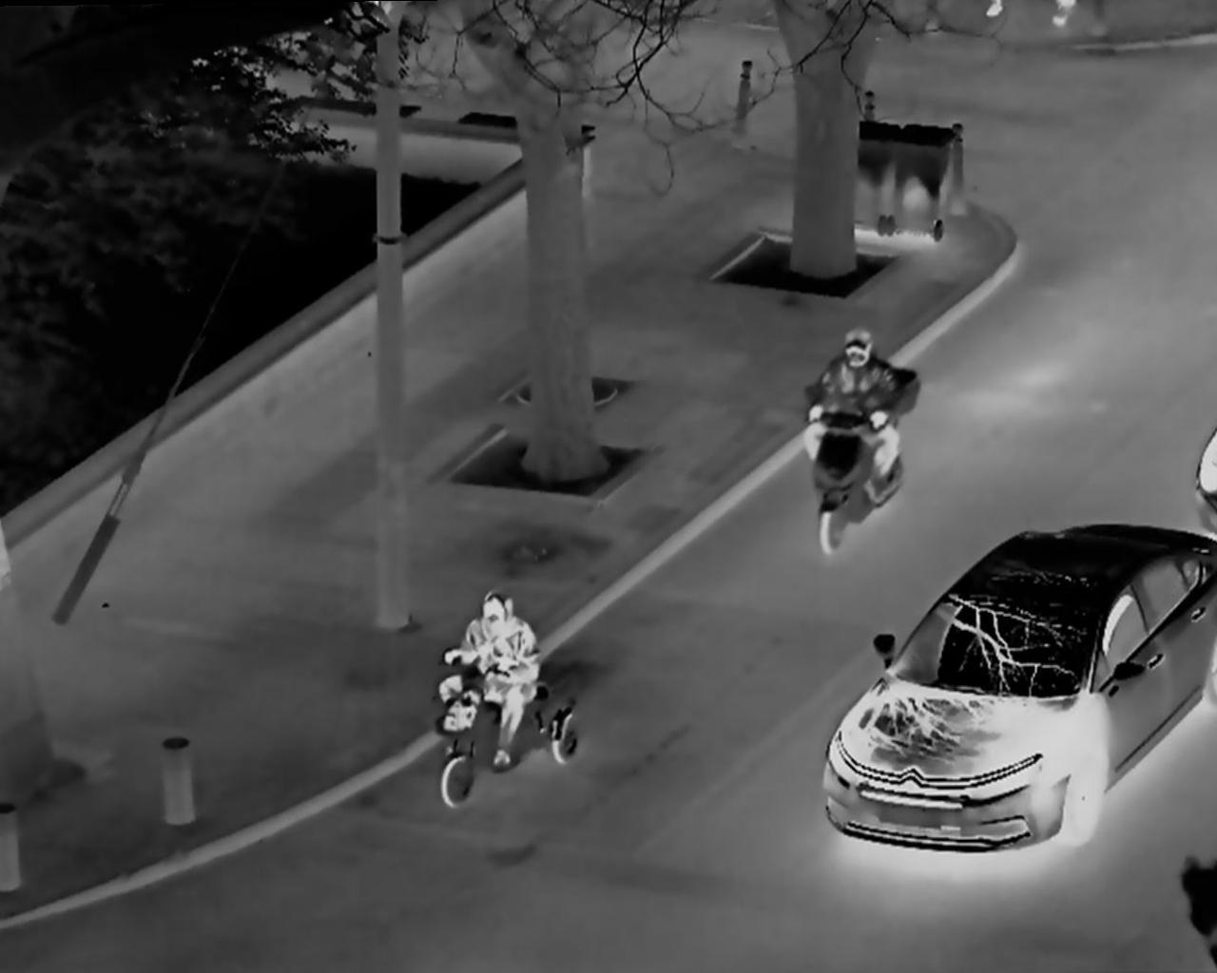person: (798, 320, 914, 550), (444, 569, 561, 794)
